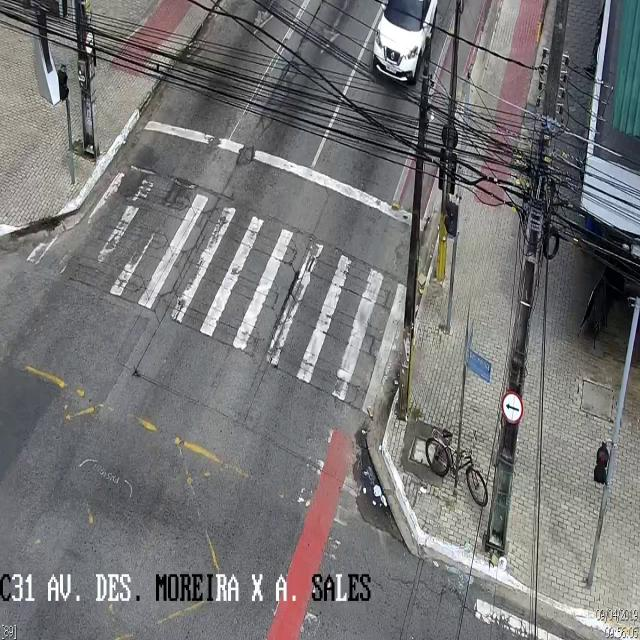Car: (374, 1, 438, 83)
